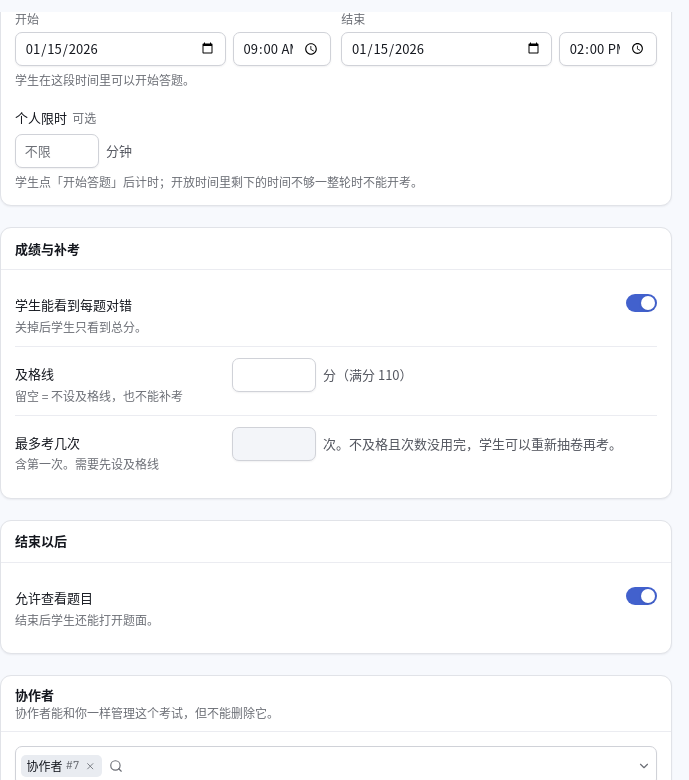
Test: contest and exam settings › refuses a pass score above the known paper full score and does not post
(page scrolled)
Check: the text "满分 110" is shown, box x1=349 y1=365 x2=400 y2=384
In the field labelled "及格线": {"x": 274, "y": 375} x1=232 y1=358 x2=316 y2=392, type "111"
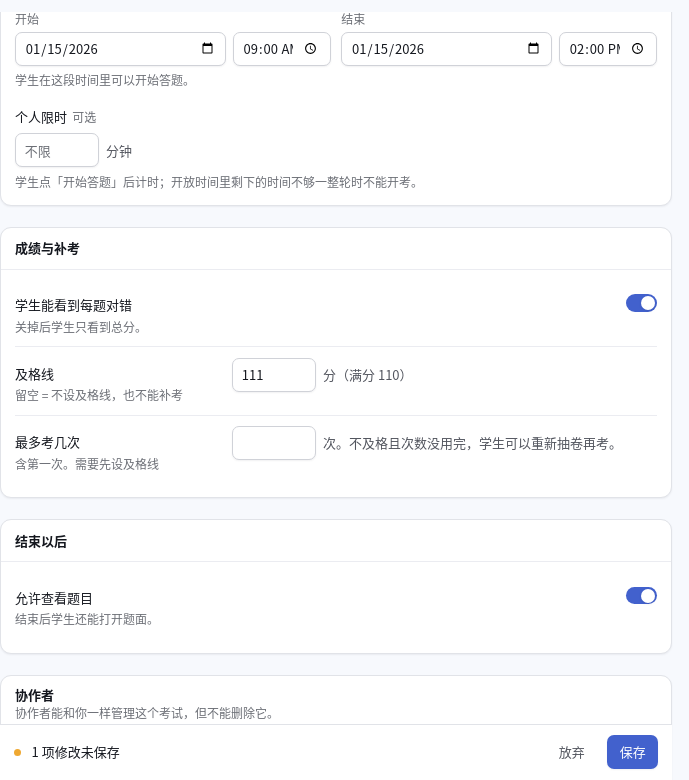
In the field labelled "最多考几次": {"x": 274, "y": 443} x1=232 y1=426 x2=316 y2=460, type "2"
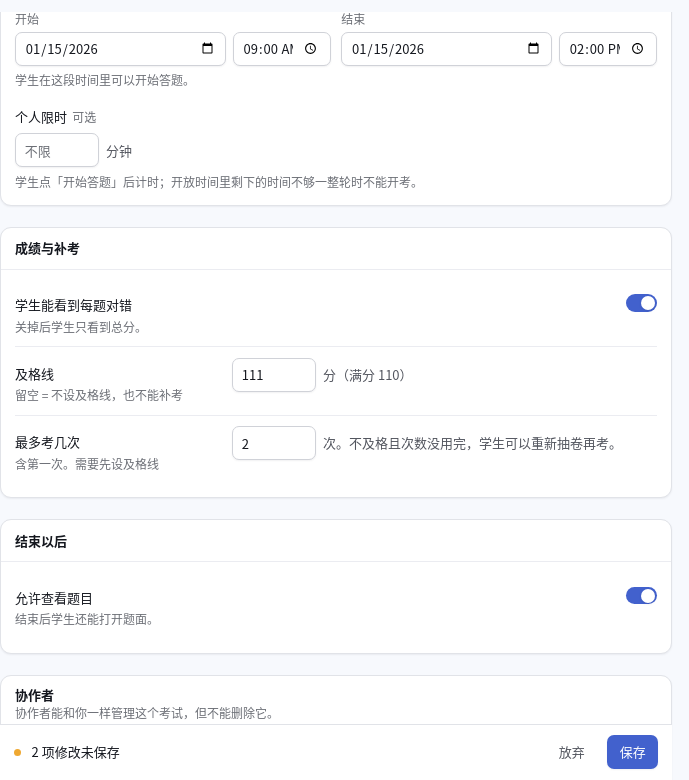
Click the button "保存": {"x": 633, "y": 752} x1=608 y1=736 x2=658 y2=770
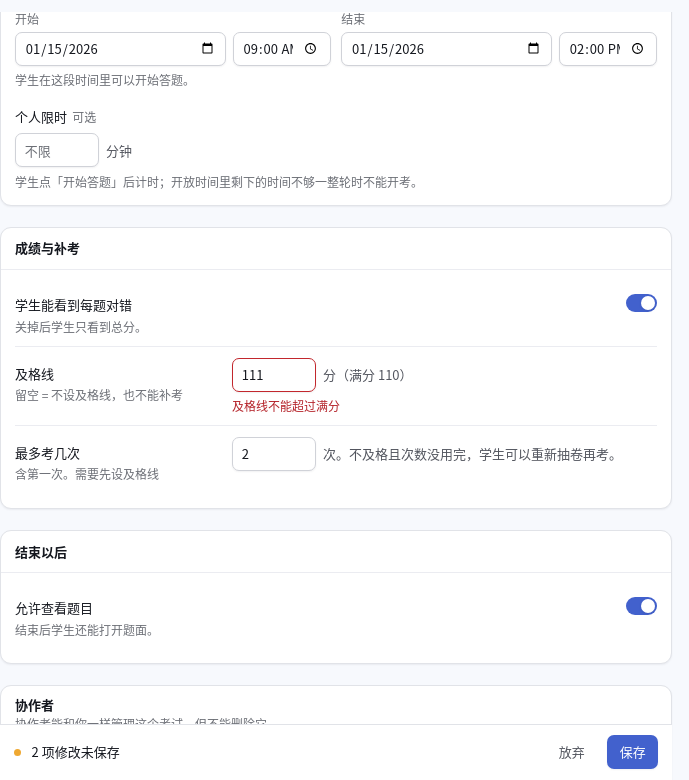
Check: the message "及格线不能超过满分" is shown, box x1=232 y1=397 x2=340 y2=414
